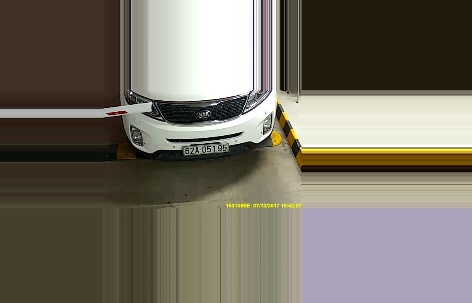plate: (180, 142, 232, 154)
